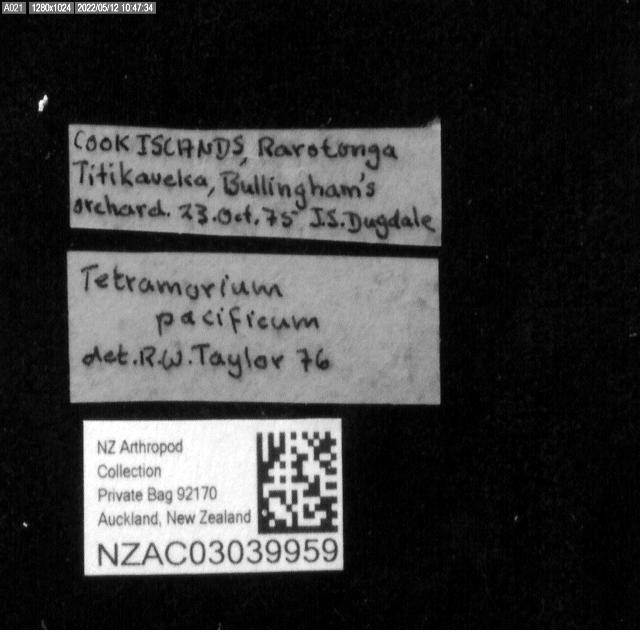hand_label: (68, 252, 440, 405), (69, 119, 441, 247)
typed_label: (84, 419, 344, 574)
